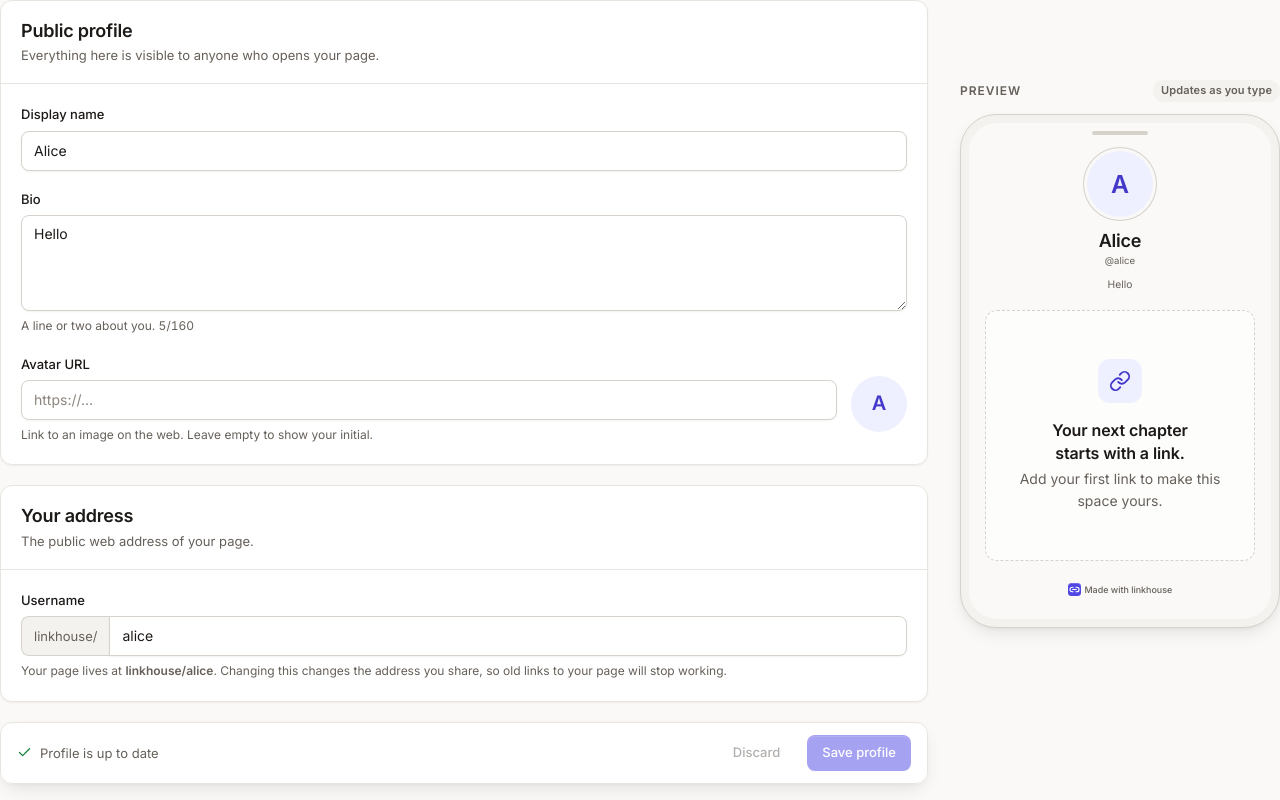
Test: only enables saving after the profile changes and can discard edits
Expected: the button "Save profile" is disabled, [807,735,911,771]
Type "!" into the field labelled "Display name".
click(464, 151); type("!")  # box [21,131,907,171]
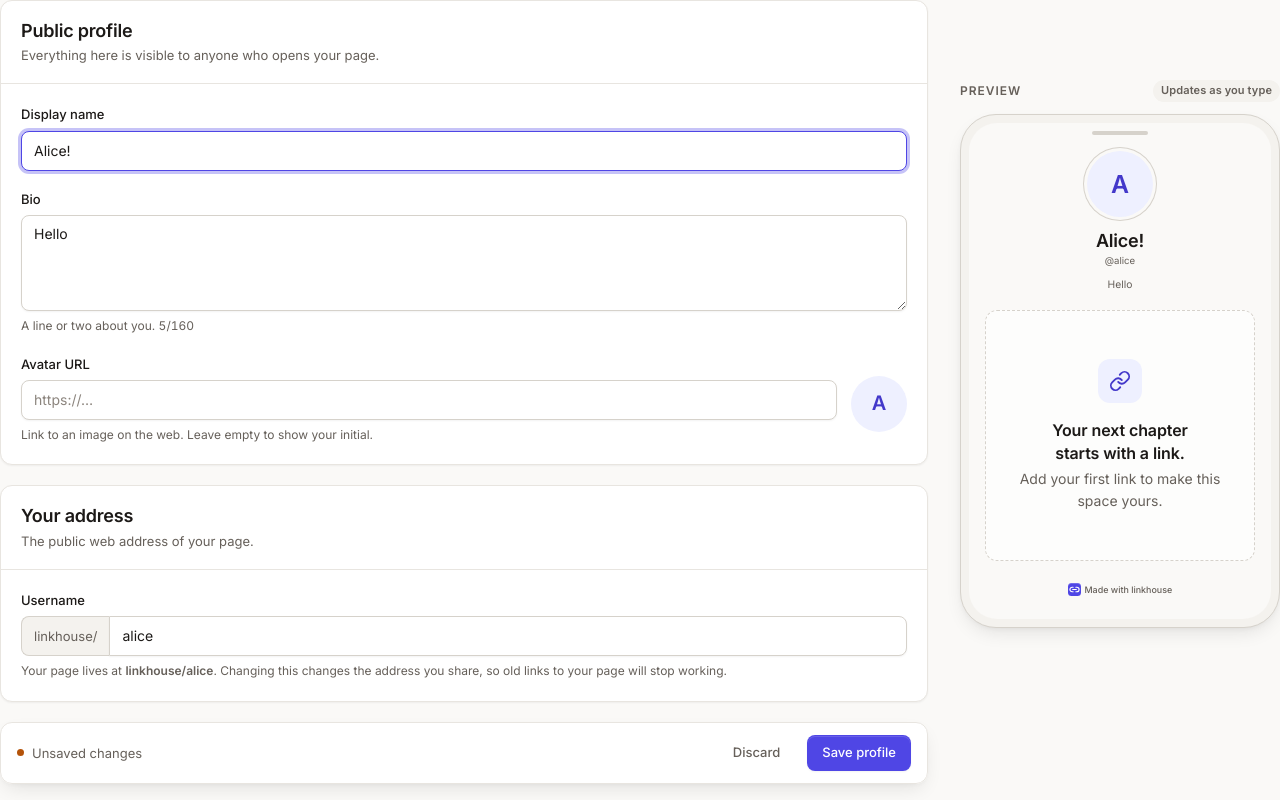
Result: the button "Save profile" is enabled at [807,735,911,771]
Click the button "Discard".
click(757, 753)  # box [718,735,795,771]
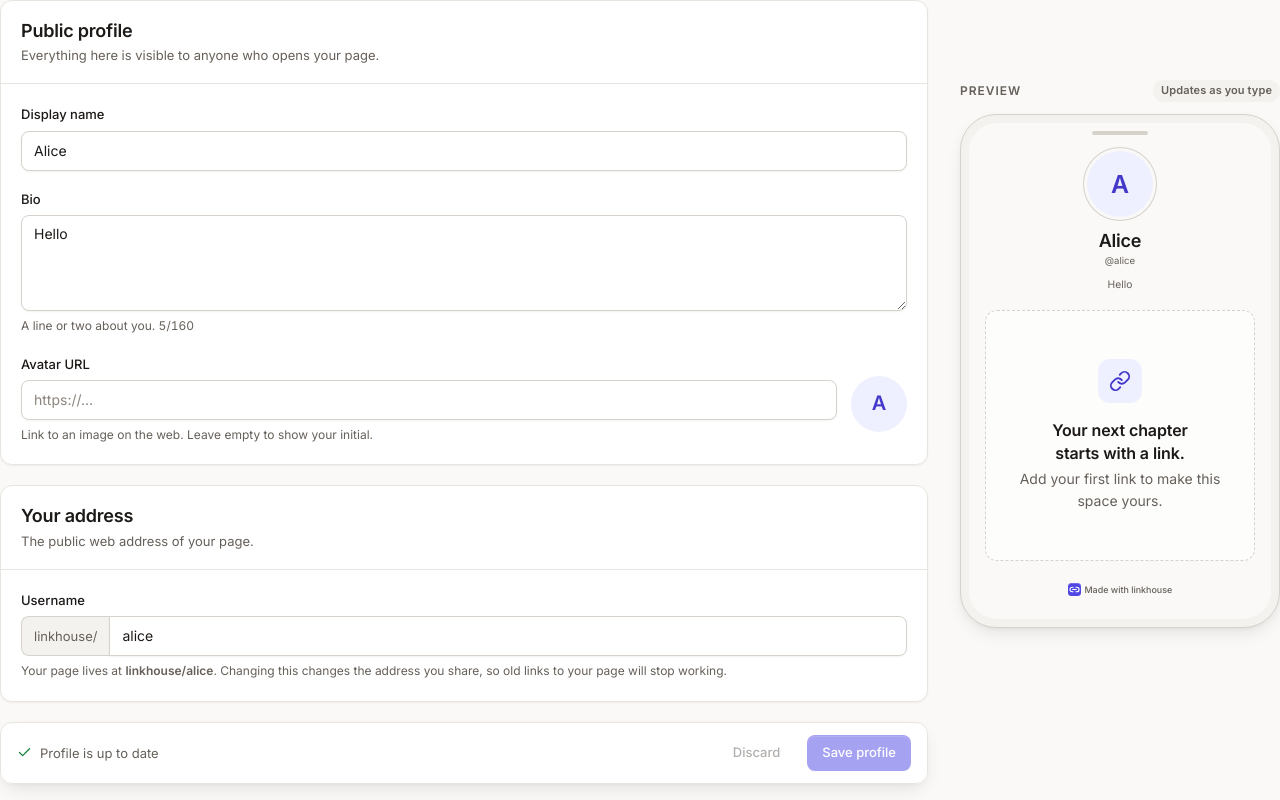
Result: the field labelled "Display name" holds "Alice" at [21,131,907,171]
